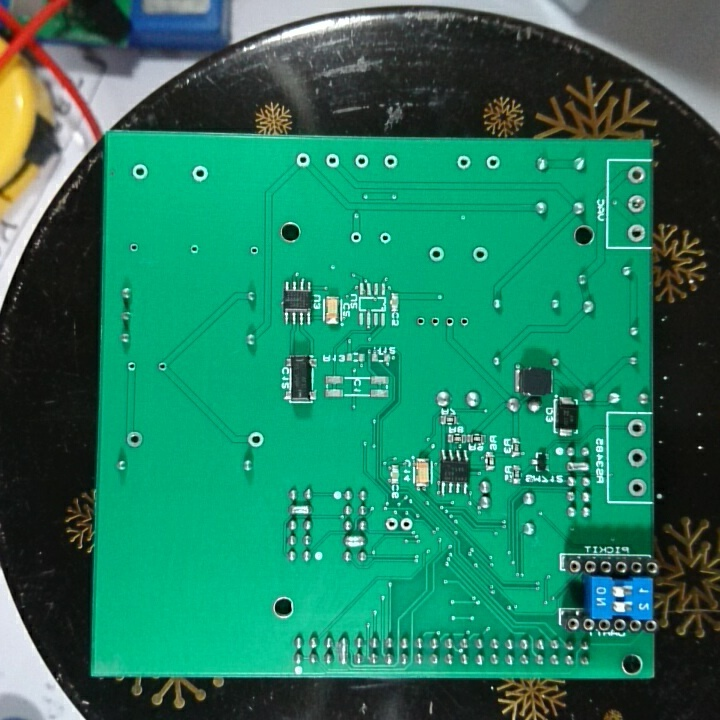F: (245, 429, 270, 454), (127, 160, 153, 183), (625, 163, 648, 186), (624, 192, 647, 215), (123, 429, 147, 451), (190, 163, 212, 186), (624, 417, 646, 440), (625, 222, 647, 243), (350, 152, 372, 173), (625, 478, 648, 498), (470, 245, 492, 265), (427, 243, 446, 266), (627, 448, 648, 468), (382, 150, 401, 172), (454, 152, 474, 172), (324, 152, 344, 172), (294, 150, 313, 171), (484, 154, 503, 172), (377, 229, 394, 249), (185, 241, 203, 258), (124, 358, 141, 376), (384, 515, 399, 535), (245, 241, 261, 259), (349, 230, 364, 249), (128, 241, 144, 257), (427, 313, 442, 330), (457, 314, 471, 332), (415, 313, 430, 329), (399, 516, 414, 530), (155, 358, 165, 375), (444, 315, 454, 329)
P: (335, 631, 351, 669), (563, 458, 595, 476), (340, 532, 370, 549), (287, 503, 316, 520)
